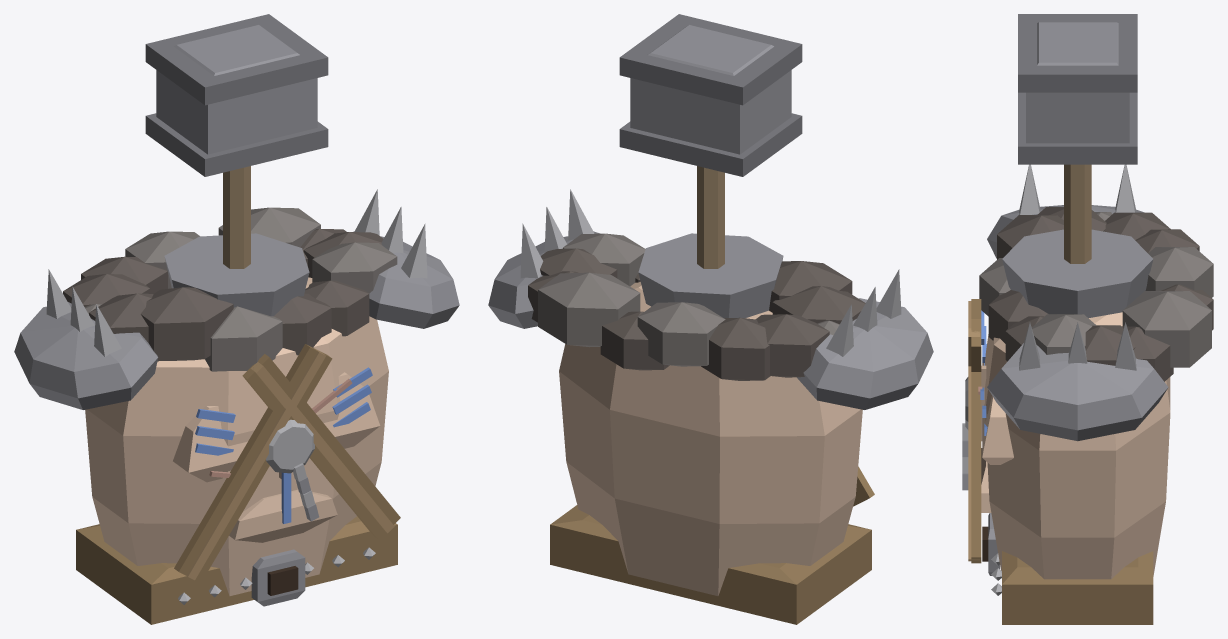
File: brute.glb
The picture shows the model from 3 angles, left to right: view 1: azimuth 30°, elevation 25°; view 2: azimuth 150°, elevation 25°; view 3: azimuth 270°, elevation 25°; orthographic projection.
Visible parts, largest first — view 1: Torso, Weapon, PauldronL, PauldronR; view 2: Torso, Weapon, PauldronL, PauldronR; view 3: Torso, Weapon, PauldronR, PauldronL.
Boxes of the visible parts, box(x1,y1,x2,y2) form: Torso: box(63, 207, 400, 624); Weapon: box(145, 14, 328, 268); PauldronL: box(14, 269, 158, 409); PauldronR: box(353, 189, 459, 328); Torso: box(528, 233, 874, 624); Weapon: box(619, 14, 802, 268); PauldronL: box(797, 269, 933, 409); PauldronR: box(488, 189, 599, 328); Torso: box(962, 207, 1213, 624); Weapon: box(1018, 14, 1137, 263); PauldronR: box(987, 322, 1168, 441); PauldronL: box(987, 164, 1144, 258).
Size of the model in its own units: 1.21 by 1.46 by 0.6313.
